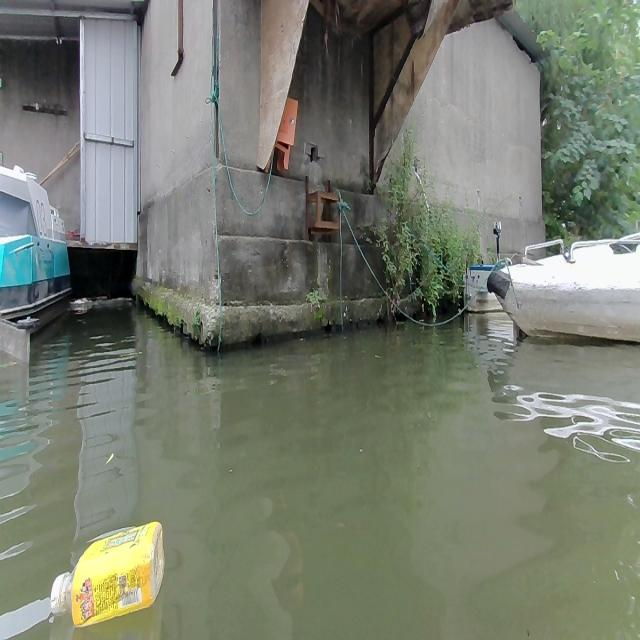bottle: (48, 514, 164, 629)
